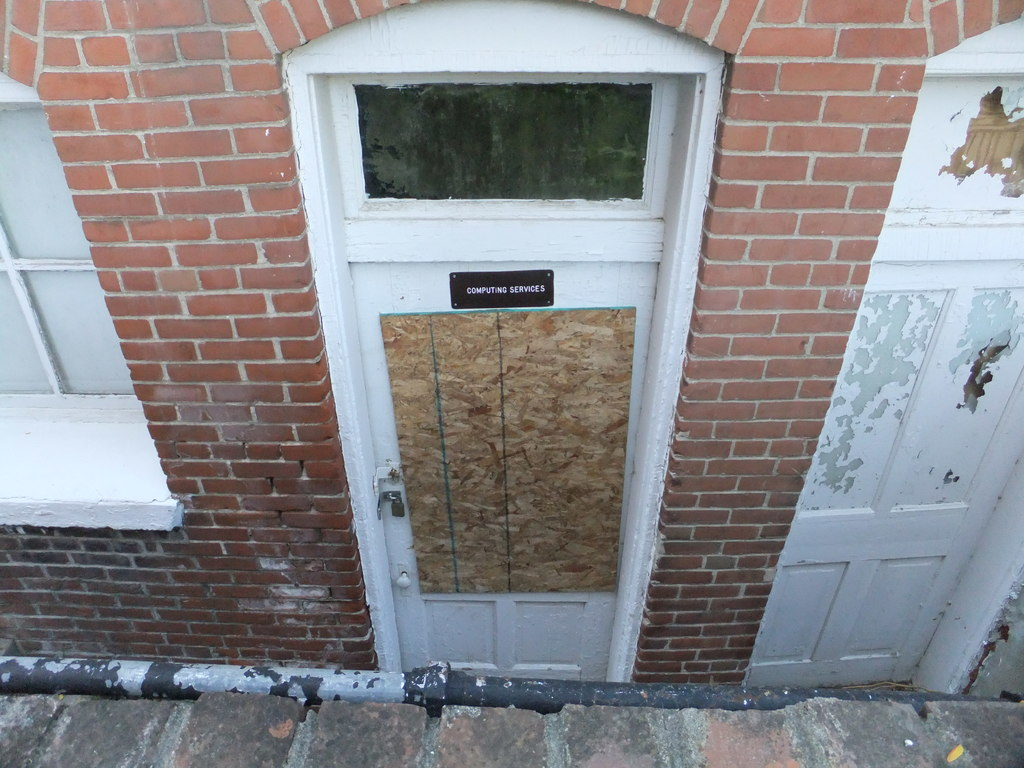door: (385, 276, 607, 673), (872, 282, 948, 687)
handle: (375, 484, 406, 524)
